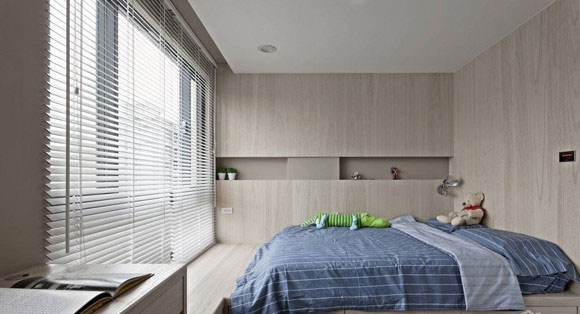床: (226, 221, 571, 310)
枕头: (315, 213, 390, 235)
灯: (436, 176, 459, 198), (260, 45, 279, 57)
